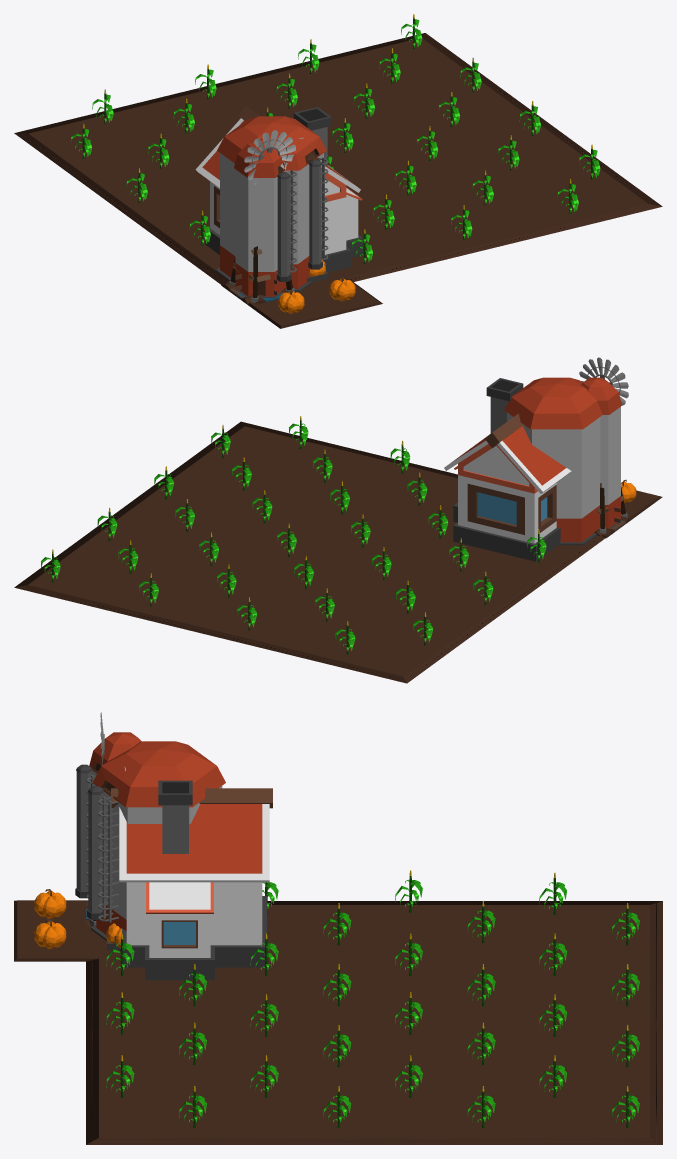
The model's file is farm-assets.glb.
3 renders of one model, top to bottom at view 1: azimuth 30°, elevation 25°; view 2: azimuth 150°, elevation 25°; view 3: azimuth 270°, elevation 25°, orthographic. The views are drawn at different scales.
Visible parts, largest first — view 1: corn, large_silo, small_silo, homestead, pumpkin, windmill2, windmill; view 2: corn, homestead, large_silo, small_silo, pumpkin, windmill2; view 3: corn, homestead, large_silo, pumpkin, small_silo.
Part boxes in pixels (x1,y1,x2,y2): corn: (14, 14, 662, 286); large_silo: (215, 116, 328, 291); small_silo: (234, 139, 296, 297); homestead: (195, 106, 363, 281); pumpkin: (221, 260, 382, 328); windmill2: (244, 130, 295, 185); windmill: (229, 137, 303, 302); corn: (14, 416, 605, 683); homestead: (444, 378, 571, 561); large_silo: (504, 377, 602, 545); small_silo: (581, 377, 622, 528); pumpkin: (601, 479, 662, 538); windmill2: (579, 357, 628, 405); corn: (86, 870, 662, 1144); homestead: (107, 780, 272, 980); large_silo: (87, 741, 225, 951); pumpkin: (14, 889, 121, 961); small_silo: (75, 732, 141, 898).
Bounding box in the file's own units: 8.02 × 3.15 × 9.
Materials: 1 (1 with a texture image).
